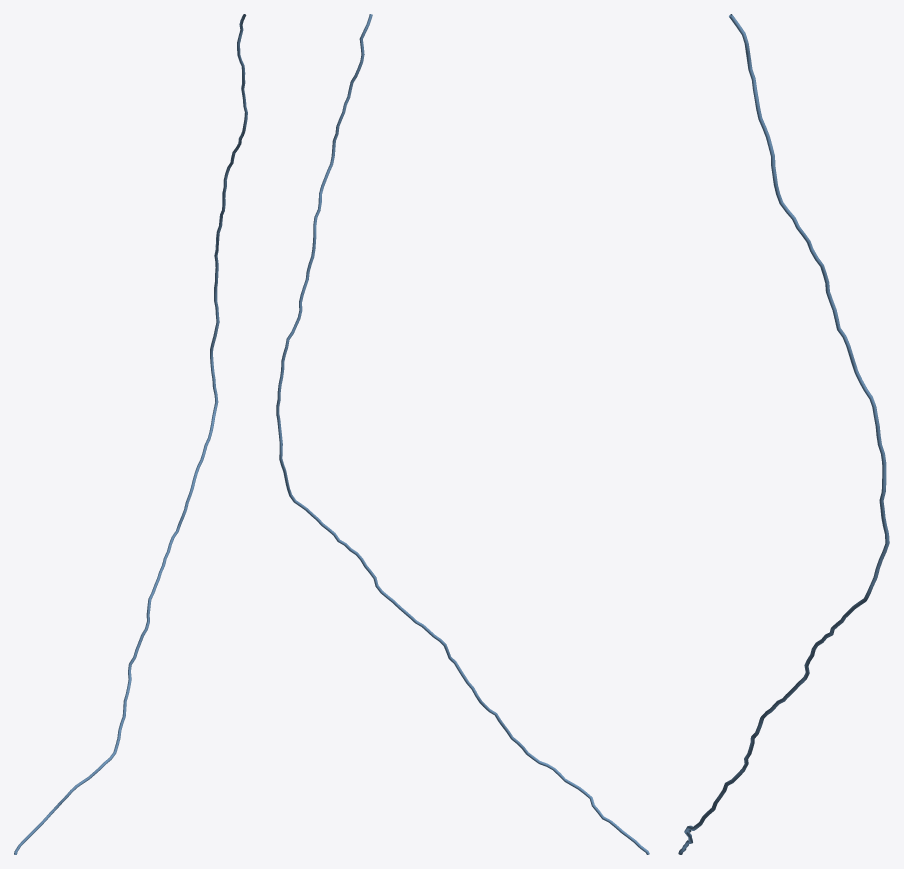
File: sweep113.fbx
The picture shows the model from 3 angles, left to right: view 1: azimuth 30°, elevation 25°; view 2: azimuth 150°, elevation 25°; view 3: azimuth 270°, elevation 25°; orthographic projection. The views are drawn at different scales.
Parts seen in each view (by area): view 1: sweep113; view 2: sweep113; view 3: sweep113.
Boxes of the visible parts, x1,y1,x2,y2 form: sweep113: (14,14,247,854); sweep113: (276,14,649,854); sweep113: (678,14,889,854).
Size of the model in its own units: 2.02 by 5.23 by 1.
